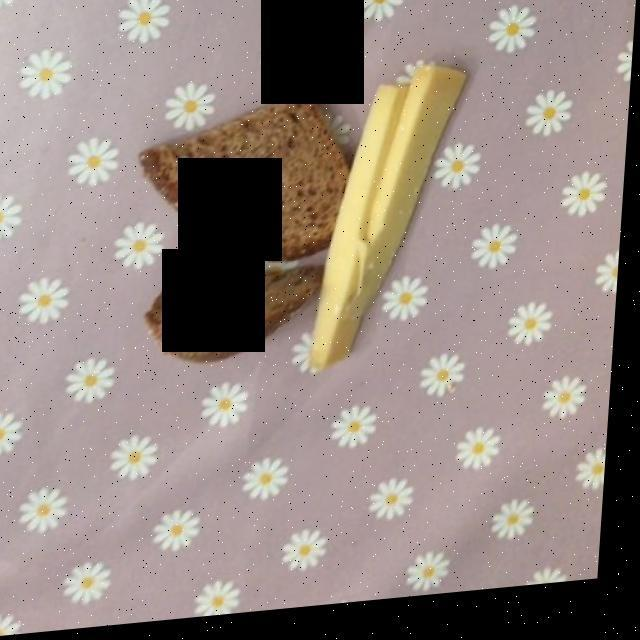bread: (148, 99, 353, 376)
cheese: (315, 73, 460, 372)
